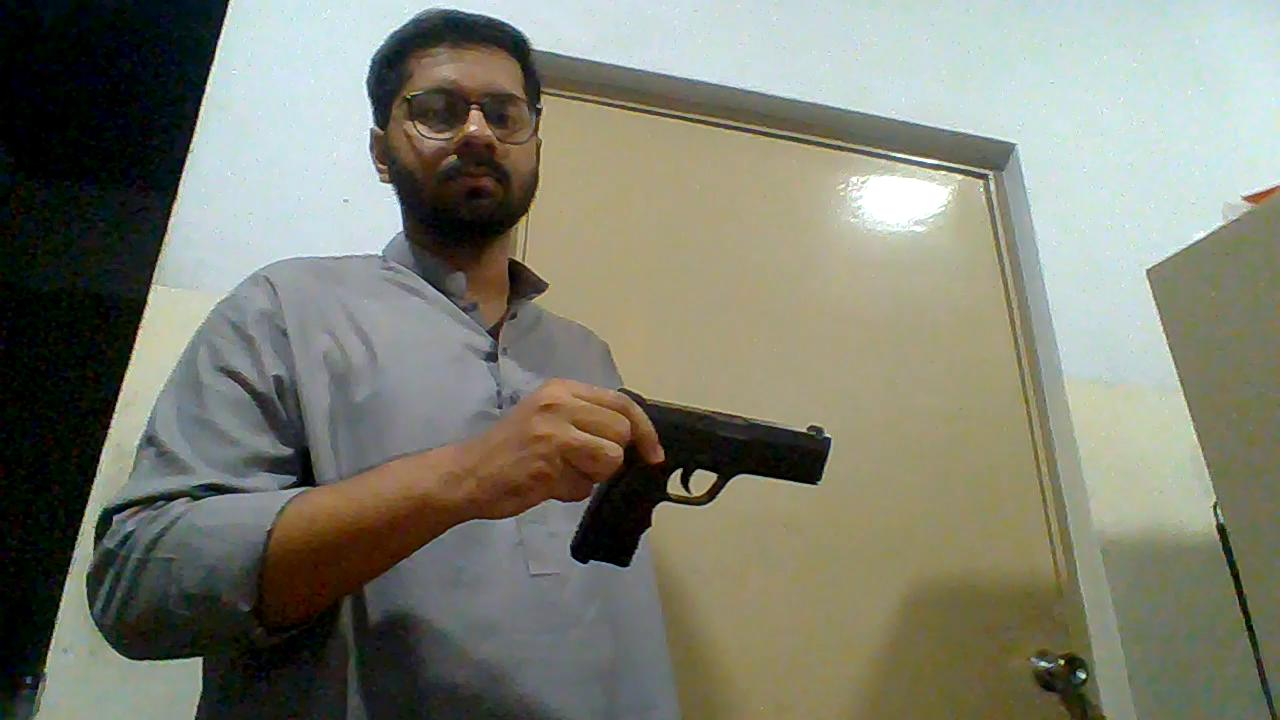criminal: (86, 7, 832, 720)
weapon: (569, 386, 833, 569)
